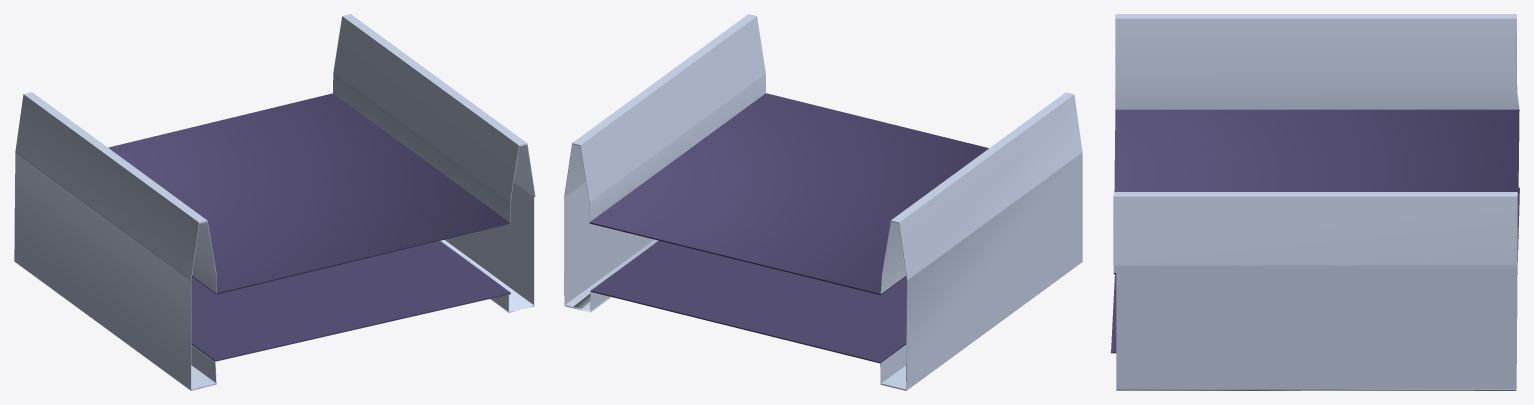
File: shortconveyor.fbx
3 views of the same model, side by side, from view 1: azimuth 30°, elevation 25°; view 2: azimuth 150°, elevation 25°; view 3: azimuth 270°, elevation 25° (orthographic). The views are drawn at different scales.
Parts seen in each view (by area): view 1: long conveyor_low.007; view 2: long conveyor_low.007; view 3: long conveyor_low.007.
Part boxes in pixels (x1,y1,x2,y2): long conveyor_low.007: (14, 14, 535, 390); long conveyor_low.007: (564, 14, 1082, 390); long conveyor_low.007: (1111, 14, 1519, 390).
Bounding box in the file's own units: 273 × 246 × 126.
